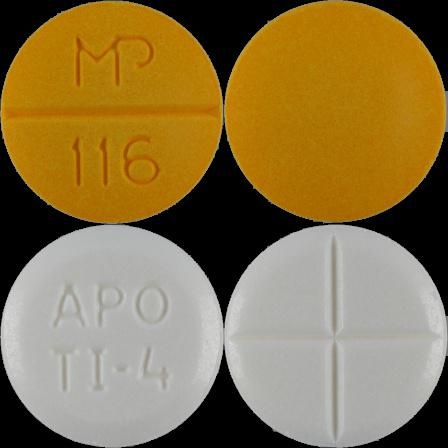61919-211: (0, 0, 224, 224)
